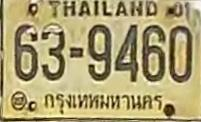0: (168, 25, 192, 83)
3: (40, 23, 64, 80)
4: (114, 23, 138, 81)
6: (141, 24, 165, 81), (14, 23, 38, 80)
9: (87, 23, 111, 80)
BKK: (42, 89, 164, 118)
